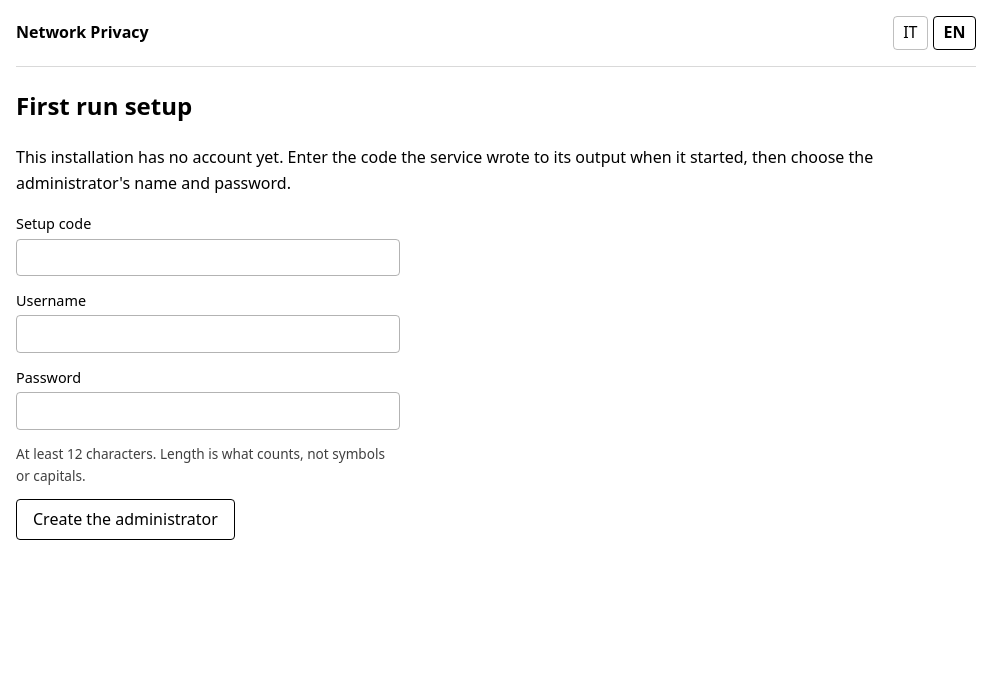
Test: Setup › says a wrong code is wrong, and that it changes at every start
In the field named "setupCode": (208, 258) [16, 239, 400, 276], type "WRONG"
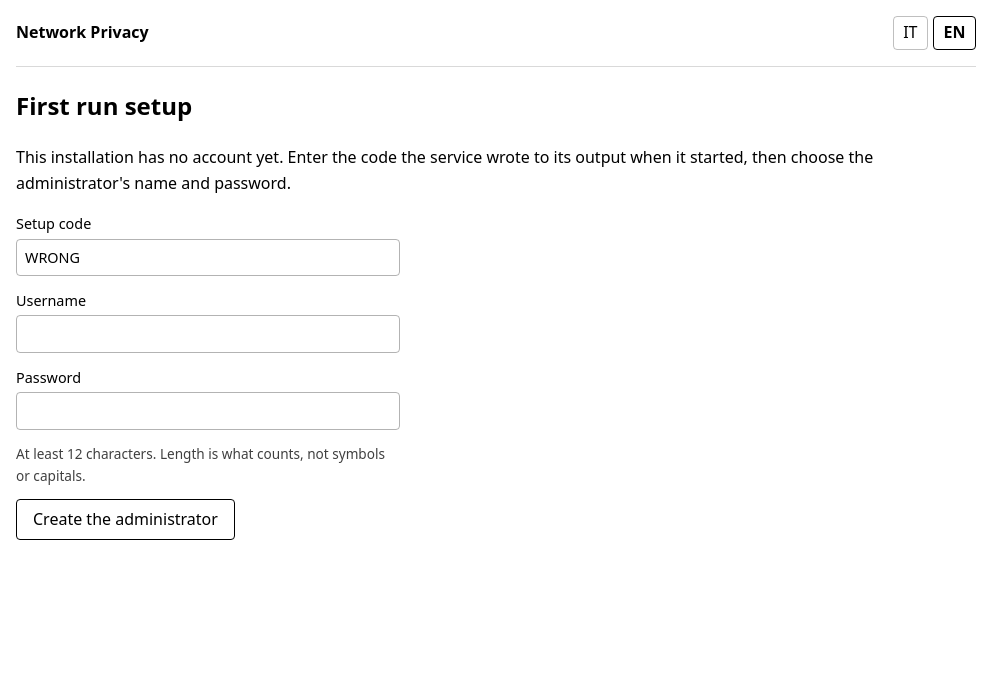
In the field named "username": (208, 334) [16, 315, 400, 353], type "root"
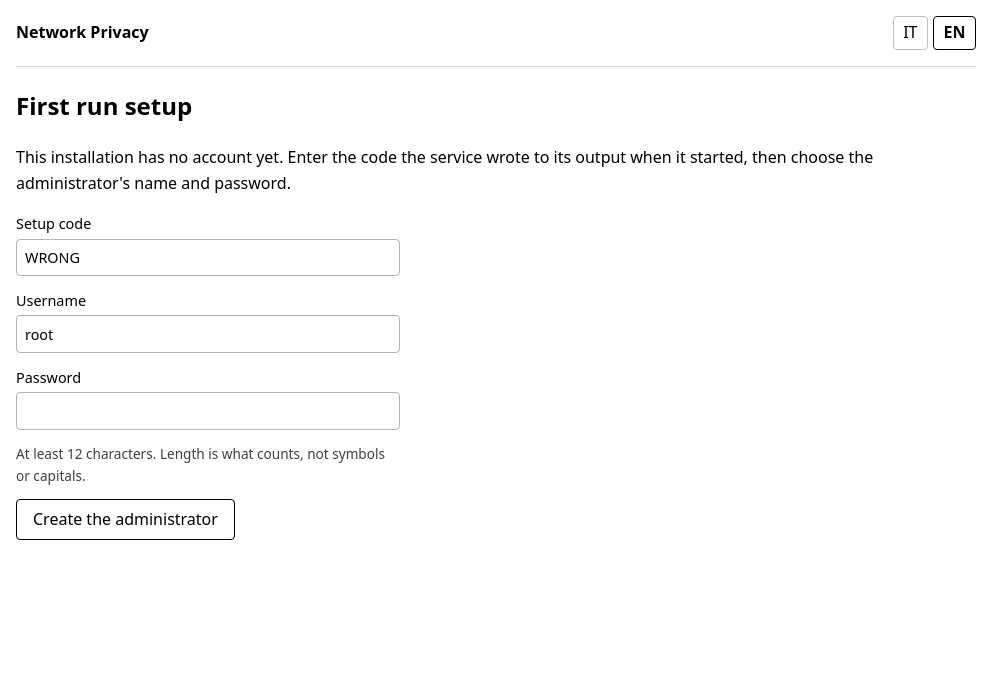
In the password field named "password": (208, 411) [16, 392, 400, 430], type "a-password-for-the-setup"
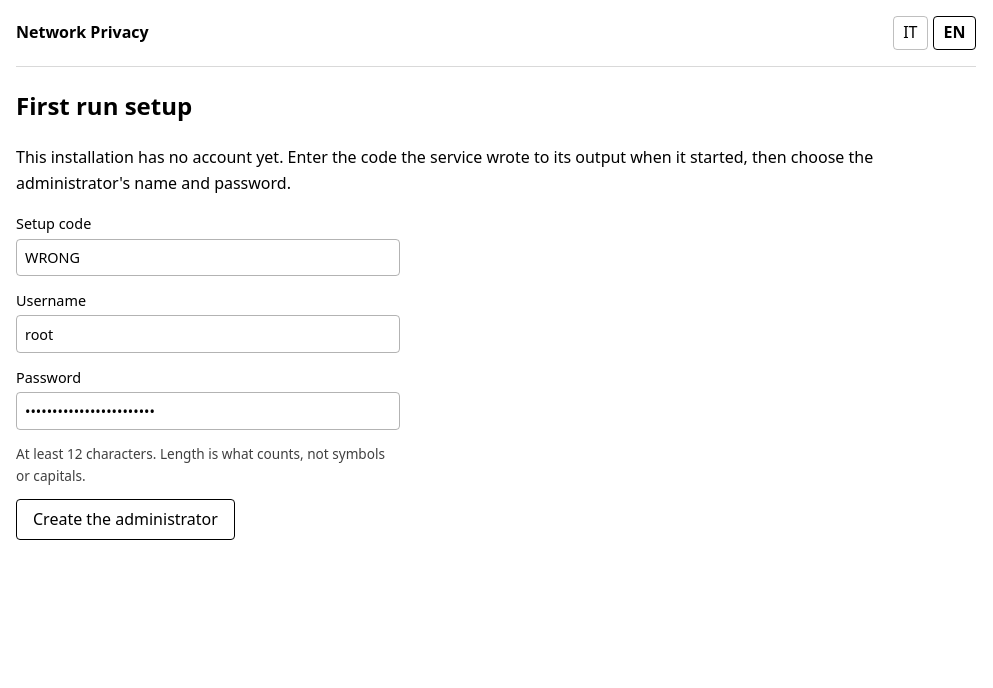
Submit the form, box [16, 212, 400, 540]
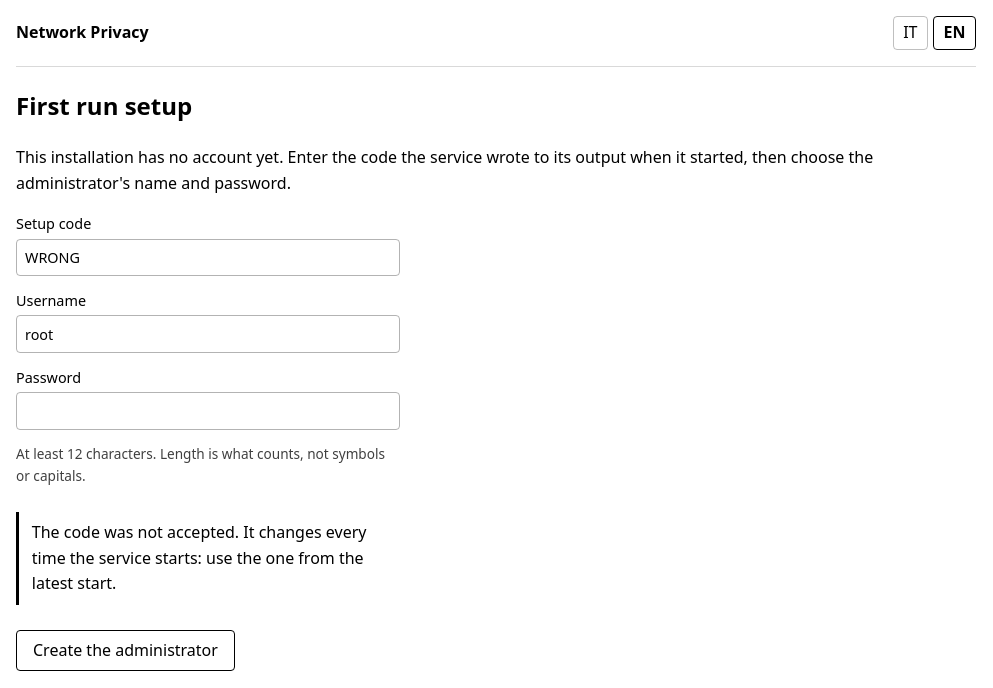
Now the message shows "It changes every time the service starts", box [32, 521, 366, 594]
